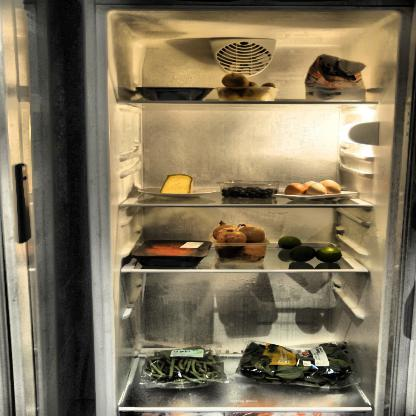beef: (141, 240, 200, 268)
blueberries: (219, 184, 278, 200)
cheese: (161, 173, 193, 196)
eggs: (285, 178, 344, 202)
green_beans: (144, 343, 222, 391)
lime: (278, 236, 342, 263)
onion: (210, 222, 270, 265)
potato: (219, 72, 277, 102)
spinach: (238, 340, 358, 389)
